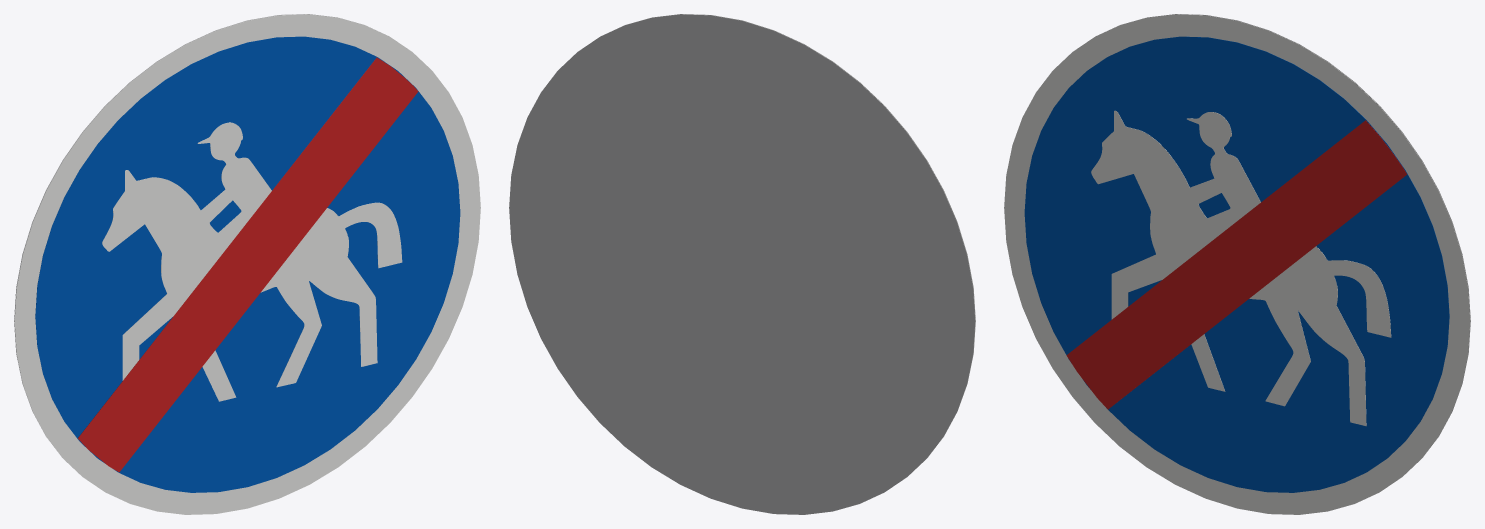
The picture shows the model from 3 angles, left to right: view 1: azimuth 30°, elevation 25°; view 2: azimuth 150°, elevation 25°; view 3: azimuth 330°, elevation 25°; orthographic projection.
Parts seen in each view (by area): view 1: B42_p01, B42_p00, B42_p03, B42_p02, B42_dos; view 2: B42_dos, B42_p00; view 3: B42_p01, B42_p00, B42_p03, B42_p02, B42_dos.
Part boxes in pixels (bbox=[...]): B42_p01: bbox=[35, 36, 460, 492]; B42_p00: bbox=[14, 14, 480, 514]; B42_p03: bbox=[78, 57, 418, 472]; B42_p02: bbox=[102, 122, 402, 401]; B42_dos: bbox=[14, 14, 385, 473]; B42_dos: bbox=[509, 14, 975, 514]; B42_p00: bbox=[604, 14, 975, 473]; B42_p01: bbox=[1024, 36, 1449, 492]; B42_p00: bbox=[1004, 14, 1470, 514]; B42_p03: bbox=[1066, 120, 1406, 409]; B42_p02: bbox=[1091, 110, 1391, 426]; B42_dos: bbox=[1099, 14, 1470, 473].
Bounding box in the file's own units: 0.85 × 0.8498 × 0.0031.
